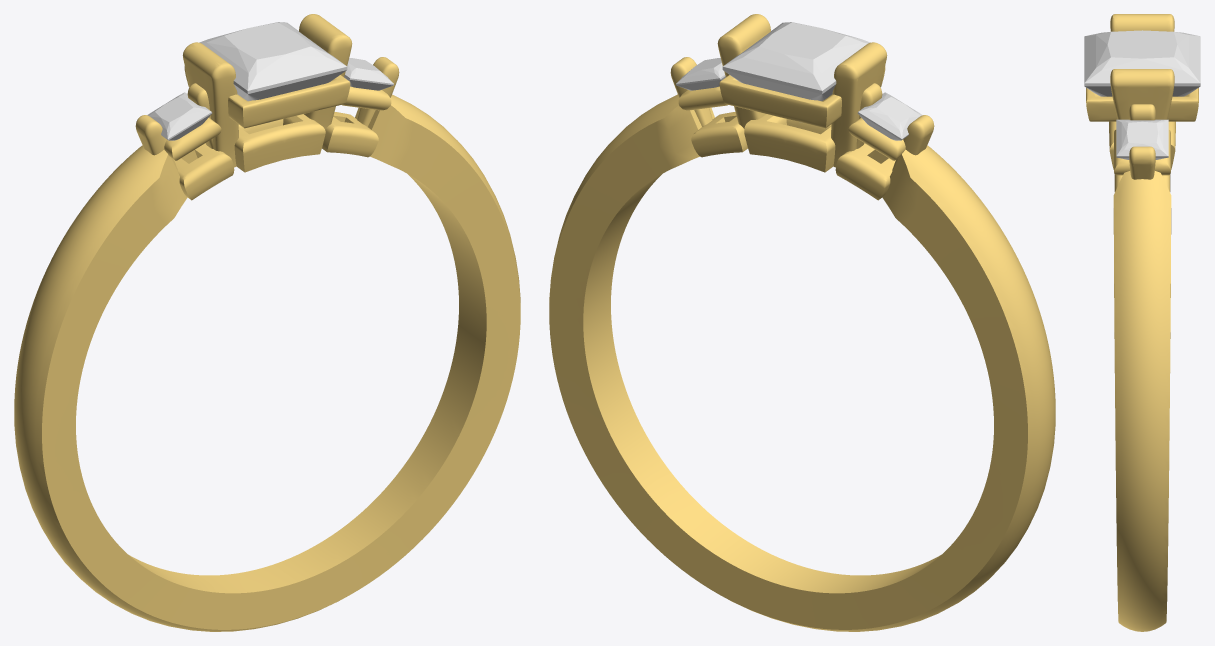
File: Peter_&_Carina_v1_blender.glb
3 renders of one model, left to right at view 1: azimuth 30°, elevation 25°; view 2: azimuth 150°, elevation 25°; view 3: azimuth 270°, elevation 25°, orthographic. The views are drawn at different scales.
Visible parts, largest first — view 1: Peter, Carina YG for 3d model, Peter, Carina dia for 3d model.001, Peter, Carina dia for 3d model, Peter, Carina dia for 3d model.002; view 2: Peter, Carina YG for 3d model, Peter, Carina dia for 3d model.001, Peter, Carina dia for 3d model, Peter, Carina dia for 3d model.002; view 3: Peter, Carina YG for 3d model, Peter, Carina dia for 3d model.001, Peter, Carina dia for 3d model.002.
Part boxes in pixels (x1,y1,x2,y2): Peter, Carina YG for 3d model: (14,14,520,631); Peter, Carina dia for 3d model.001: (199,22,347,122); Peter, Carina dia for 3d model: (147,92,212,140); Peter, Carina dia for 3d model.002: (344,58,393,90); Peter, Carina YG for 3d model: (549,14,1055,631); Peter, Carina dia for 3d model.001: (722,22,870,122); Peter, Carina dia for 3d model: (857,92,922,140); Peter, Carina dia for 3d model.002: (676,58,725,90); Peter, Carina YG for 3d model: (1086,14,1198,631); Peter, Carina dia for 3d model.001: (1084,30,1200,96); Peter, Carina dia for 3d model.002: (1116,119,1168,159).
Size of the model in its own units: 21.13 by 23.82 by 4.45.
